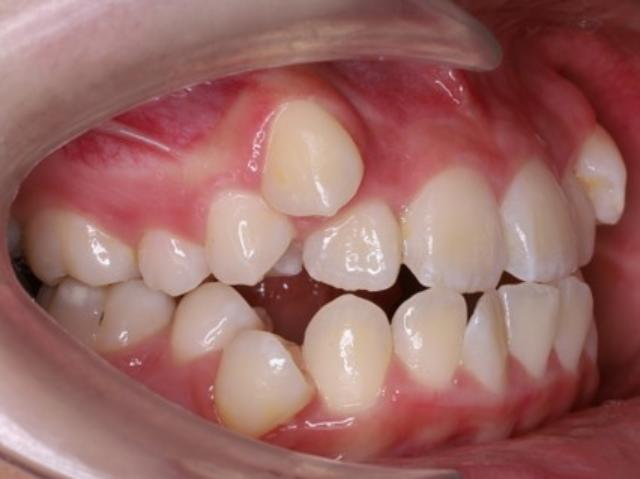canine class II 1/4: (210, 108, 400, 443)
molar class III 1/4: (22, 204, 180, 354)
